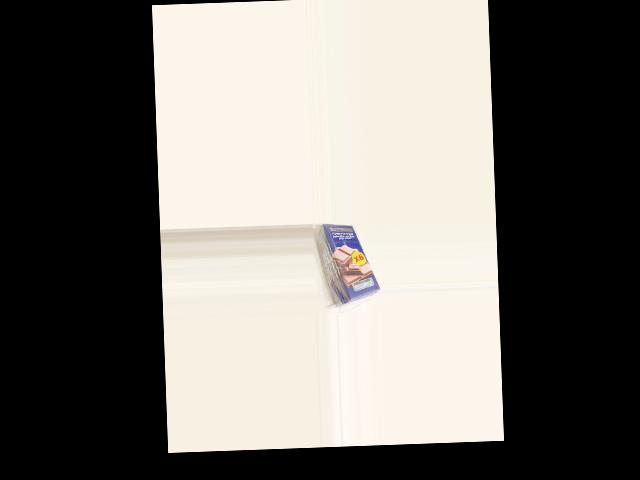chocolate: (317, 221, 381, 302)
